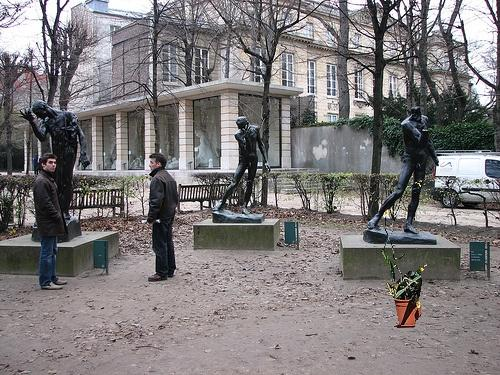tampered: (382, 180, 427, 328)
